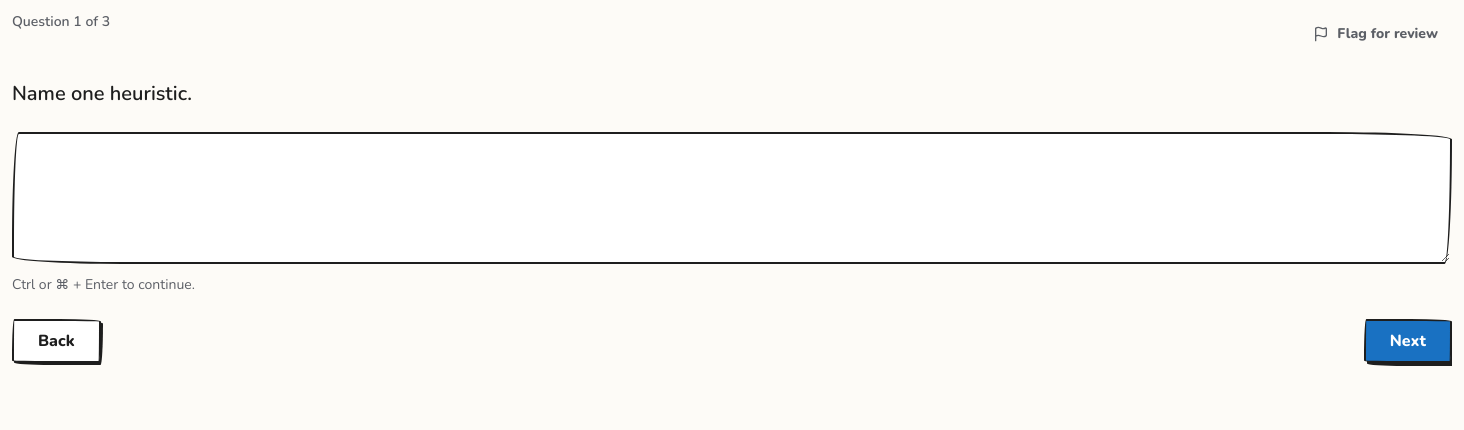
QuestionView › empty text asks for an answer
The width and height of the screenshot is (1464, 430).
What coordinates should you click on to do the following:
click the button "Next"
I would click on:
 (1408, 341)
Its box is [1364,319,1452,363].
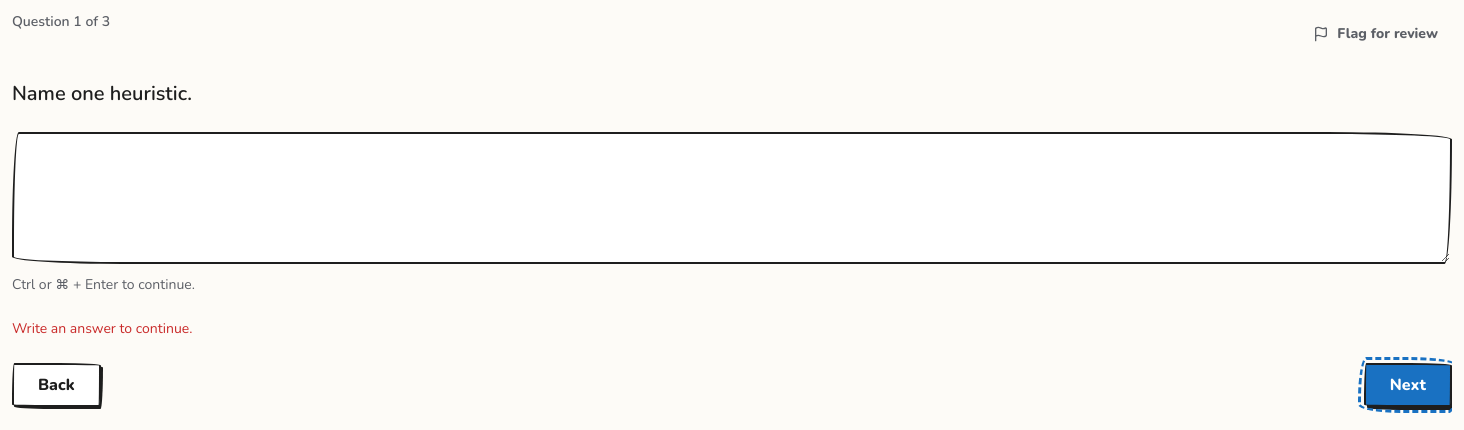
Expected: the message reads "Write an answer to continue.", [12,319,192,338]
